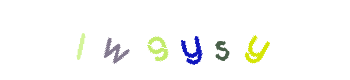9: (134, 0, 214, 80)
L: (92, 0, 172, 80)
S: (182, 0, 262, 80)
W: (112, 0, 192, 80)
Y: (153, 0, 233, 80), (215, 0, 295, 80)
